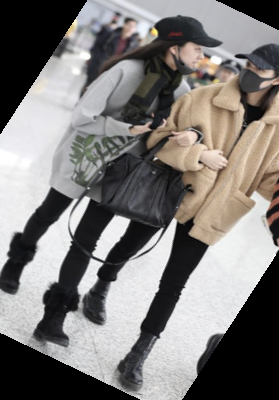mask_weared_incorrect: (143, 7, 223, 85)
